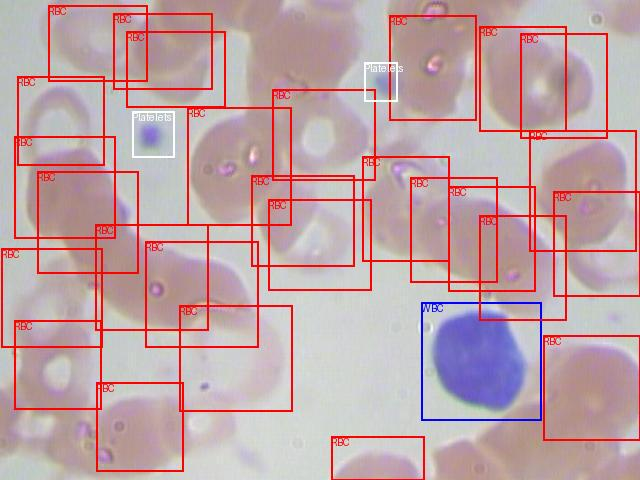Platelets: (132, 111, 174, 157), (364, 62, 397, 101)
RBC: (529, 130, 636, 251), (187, 107, 291, 225), (179, 305, 292, 411), (145, 241, 258, 347), (95, 224, 208, 330), (14, 136, 115, 238), (37, 171, 138, 273), (543, 335, 640, 440), (1, 248, 102, 347), (272, 89, 375, 180), (251, 175, 354, 266), (268, 199, 371, 290), (553, 191, 640, 296), (479, 215, 566, 320), (448, 186, 535, 291), (410, 177, 497, 282), (362, 156, 449, 261), (520, 33, 607, 138), (479, 26, 566, 131), (389, 15, 476, 120), (96, 382, 183, 471), (14, 320, 101, 409), (17, 76, 104, 165), (48, 5, 147, 81), (113, 13, 212, 89), (126, 31, 225, 107), (331, 436, 424, 480)
WBC: (421, 302, 541, 420)
